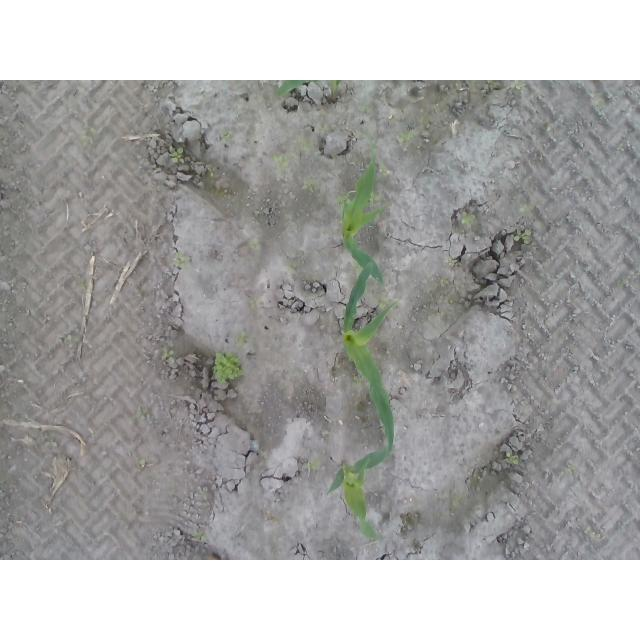Maize: (343, 260, 402, 452), (322, 445, 394, 543), (339, 158, 389, 286), (273, 80, 347, 101)
Weeds: (214, 351, 247, 384), (169, 146, 187, 165), (514, 228, 533, 245), (303, 179, 319, 192), (400, 131, 417, 143), (174, 254, 188, 268), (505, 454, 520, 467), (273, 153, 290, 164), (368, 191, 381, 205), (162, 350, 175, 362), (444, 256, 459, 265), (462, 215, 475, 225), (238, 332, 247, 345), (511, 80, 522, 90), (222, 130, 232, 140), (207, 167, 215, 178)
